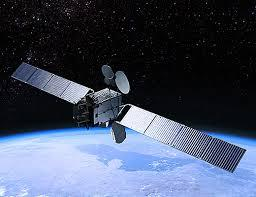antenna: (112, 69, 132, 96), (109, 120, 128, 146), (100, 63, 116, 81), (103, 76, 113, 87)
body: (77, 86, 125, 129)
solar: (118, 104, 249, 177), (9, 59, 92, 107)
